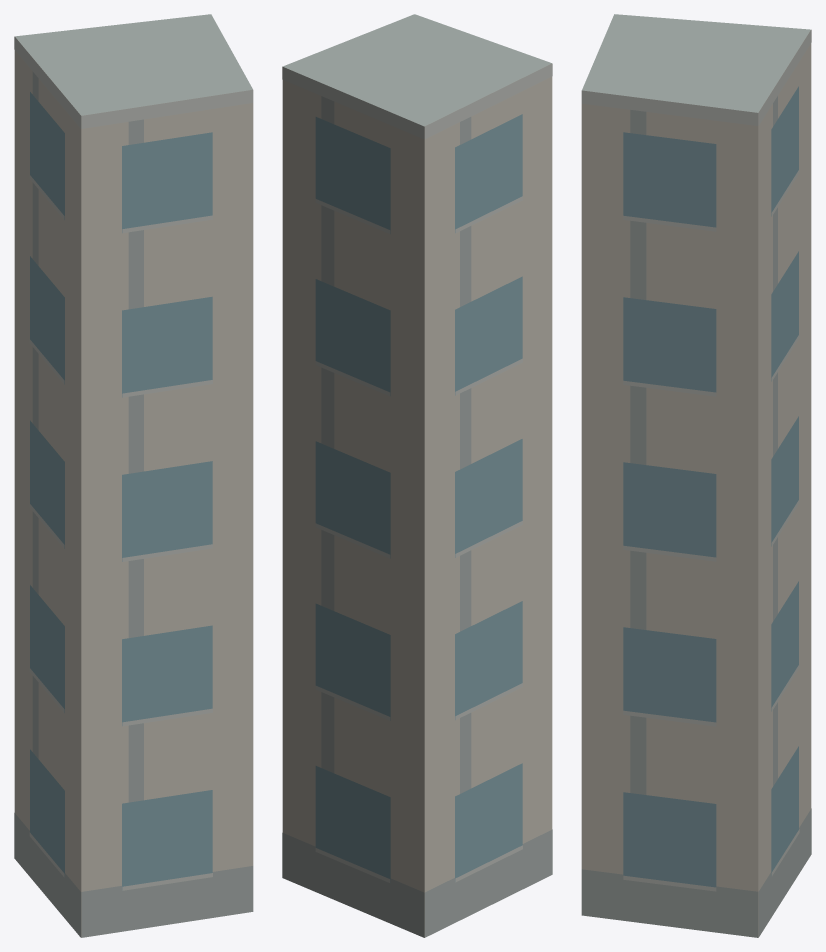
The model's file is survey-upis-32640597.glb.
3 renders of one model, left to right at view 1: azimuth 30°, elevation 25°; view 2: azimuth 150°, elevation 25°; view 3: azimuth 270°, elevation 25°, orthographic.
Parts seen in each view (by area): view 1: survey-upis-32640597.tmp; view 2: survey-upis-32640597.tmp; view 3: survey-upis-32640597.tmp.
Boxes of the visible parts, bbox=[...] form: survey-upis-32640597.tmp: bbox=[14, 14, 253, 937]; survey-upis-32640597.tmp: bbox=[282, 14, 552, 937]; survey-upis-32640597.tmp: bbox=[581, 14, 811, 937].
Size of the model in its own units: 3.93 by 15.25 by 3.86.
